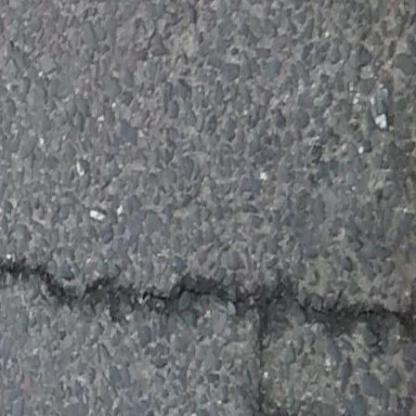Cracks: (0, 232, 416, 367)
